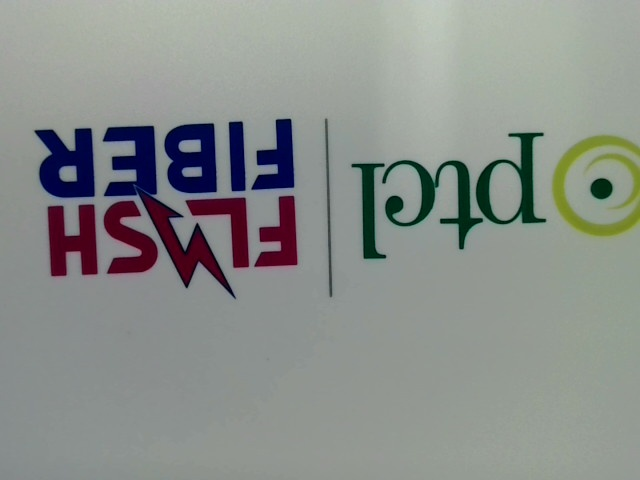BF_PTCL: (346, 120, 639, 264)
